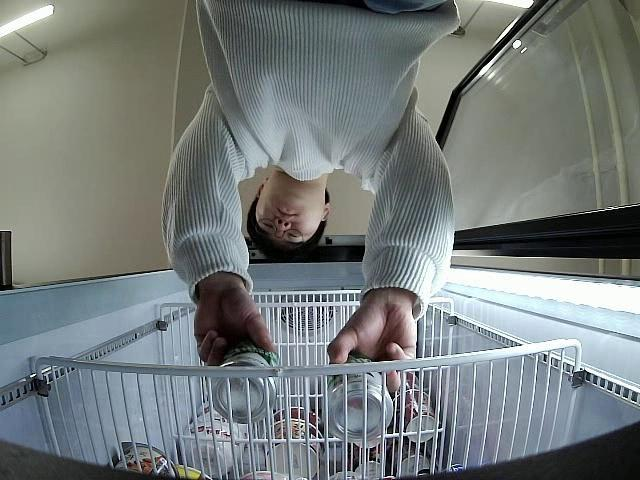12_chilsungCider: (321, 355, 394, 444), (212, 342, 280, 424)
